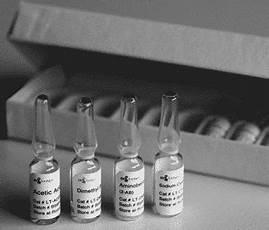Syringe: (66, 94, 108, 226), (24, 90, 64, 228), (112, 88, 148, 224), (152, 89, 187, 226)
